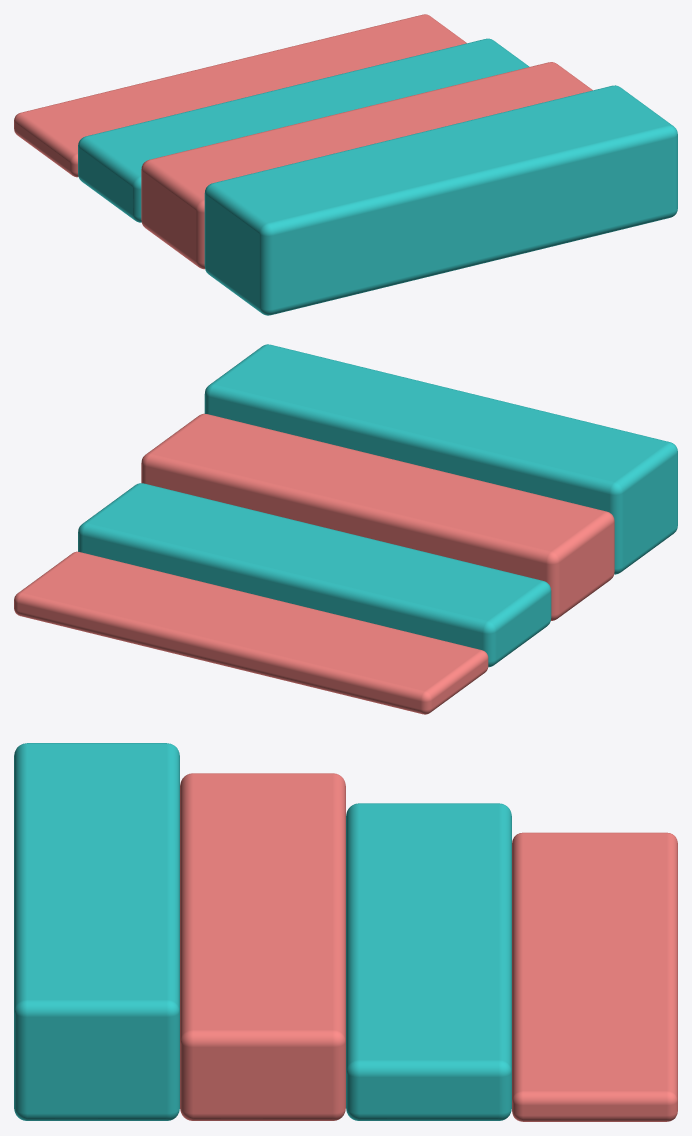
Rendered from party-obstacle-course-party-obstacle-course-stair-appr-88a1b406__28928.glb.
3 renders of one model, top to bottom at view 1: azimuth 30°, elevation 25°; view 2: azimuth 150°, elevation 25°; view 3: azimuth 270°, elevation 25°, orthographic. The views are drawn at different scales.
Parts seen in each view (by area): view 1: party-obstacle-course-stair-approach; view 2: party-obstacle-course-stair-approach; view 3: party-obstacle-course-stair-approach.
Boxes of the visible parts, bbox=[...] form: party-obstacle-course-stair-approach: bbox=[14, 14, 677, 315]; party-obstacle-course-stair-approach: bbox=[14, 344, 677, 714]; party-obstacle-course-stair-approach: bbox=[14, 743, 677, 1121].
Size of the model in its own units: 3.8 by 0.7998 by 4.
